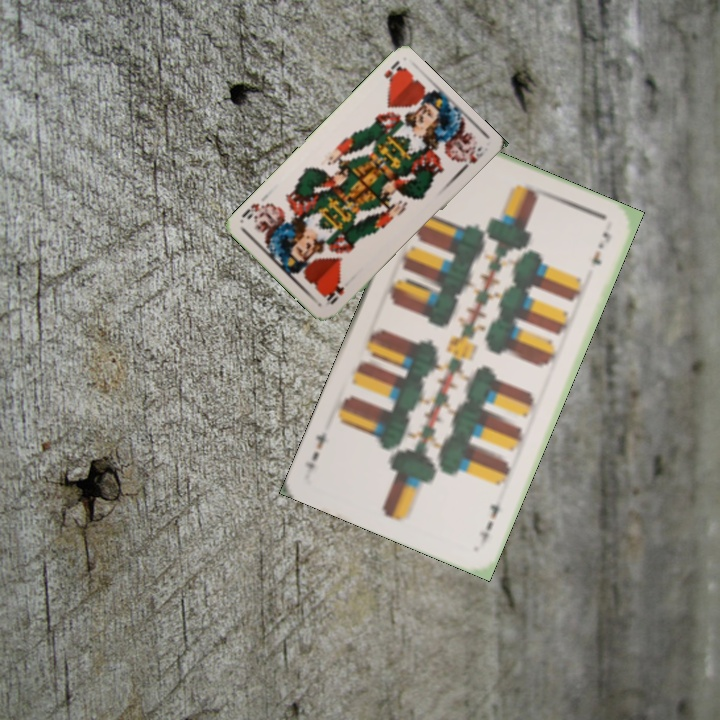E7: (475, 499, 502, 548)
HO: (380, 57, 407, 87), (322, 282, 347, 307)
